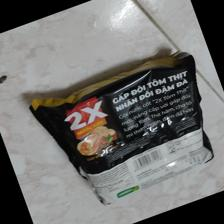3mien: (28, 51, 216, 208)
